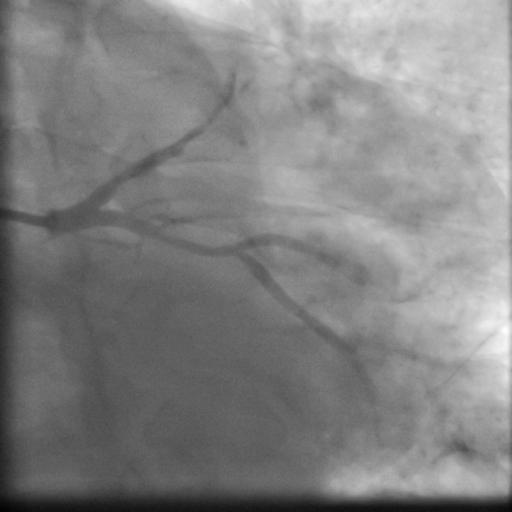Stenosis: (98, 170, 141, 190)
